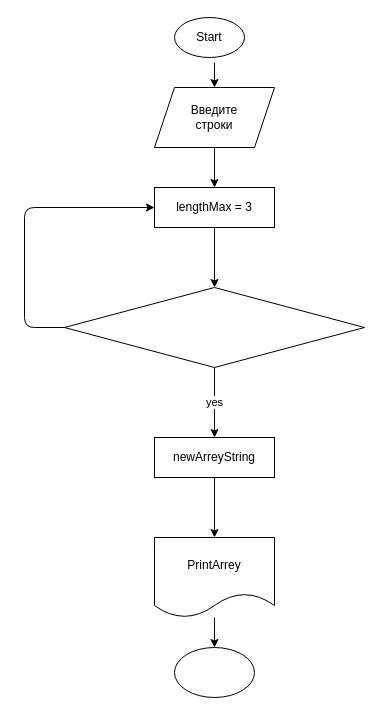
This 382x715 diagram has some shape labels left out. Each missing label, with the box of its shape:
arreyString[i] >= lengthMax ?: (64, 286, 364, 368)
End: (174, 646, 254, 698)
